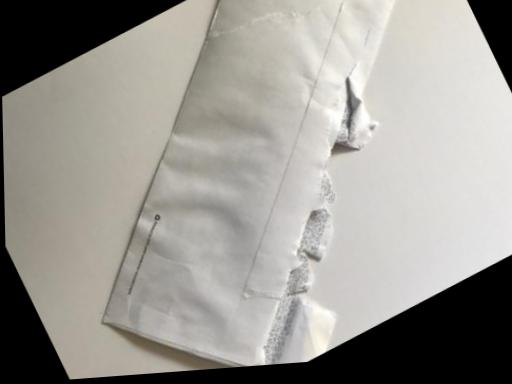paper: (2, 0, 393, 380)
